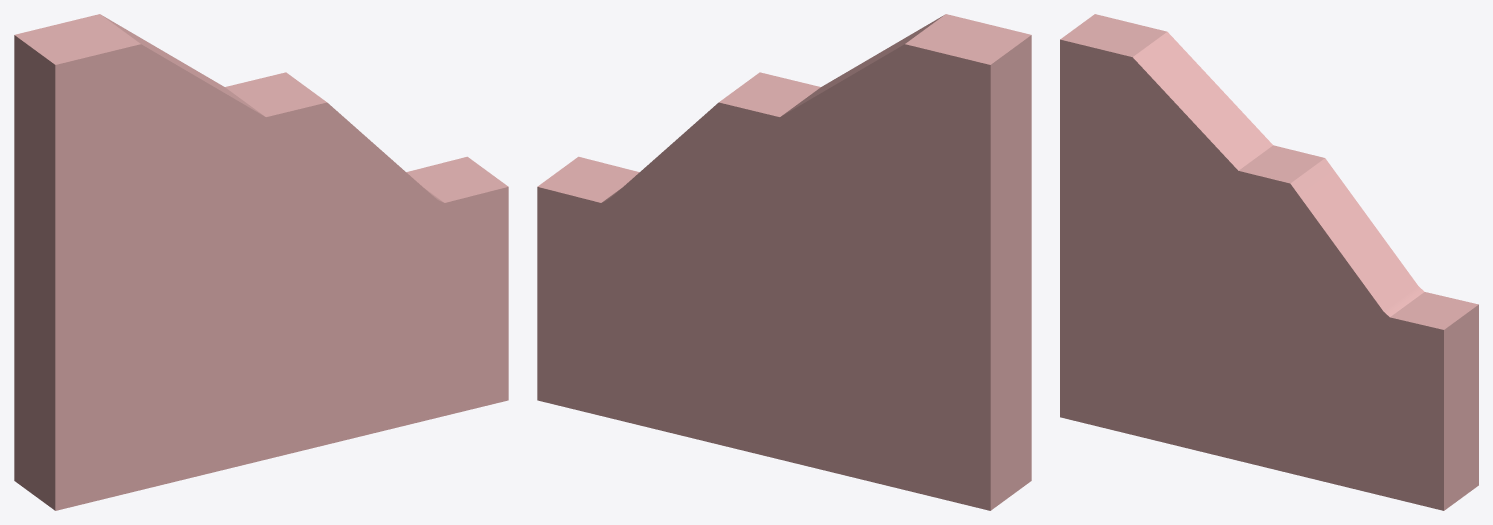
File: level05_risingStair02.fbx
3 renders of one model, left to right at view 1: azimuth 30°, elevation 25°; view 2: azimuth 150°, elevation 25°; view 3: azimuth 330°, elevation 25°, orthographic. The views are drawn at different scales.
Visible parts, largest first — view 1: level05_risingStairPiece02, level05_risingStairPiece01; view 2: level05_risingStairPiece02, level05_risingStairPiece01; view 3: level05_risingStairPiece02, level05_risingStairPiece01.
Part boxes in pixels (<box>): level05_risingStairPiece02: <box>14,14,265,510</box>; level05_risingStairPiece01: <box>225,72,508,461</box>; level05_risingStairPiece02: <box>780,14,1031,510</box>; level05_risingStairPiece01: <box>537,72,820,461</box>; level05_risingStairPiece02: <box>1060,14,1272,458</box>; level05_risingStairPiece01: <box>1231,145,1478,510</box>.
Bounding box in the file's own units: 1307 × 1229 × 206.
